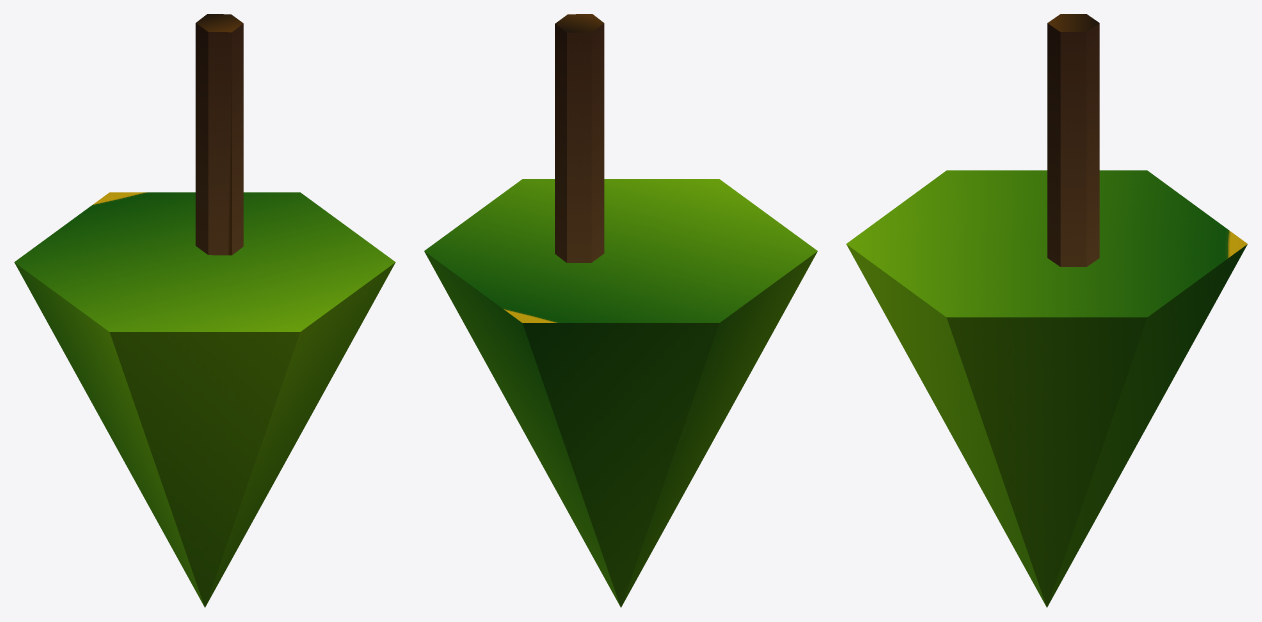
Rendered from tree3.fbx.
3 renders of one model, left to right at view 1: azimuth 30°, elevation 25°; view 2: azimuth 150°, elevation 25°; view 3: azimuth 270°, elevation 25°, orthographic. The views are drawn at different scales.
Visible parts, largest first — view 1: Cone; view 2: Cone; view 3: Cone.
Boxes of the visible parts, x1,y1,x2,y2 form: Cone: (14,14,395,607); Cone: (424,14,817,607); Cone: (846,14,1247,607).
Bounding box in the file's own units: 637 × 1210 × 736.
